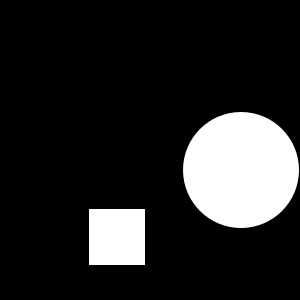circle: (89, 209, 145, 265)
rectangle: (183, 112, 299, 228)
